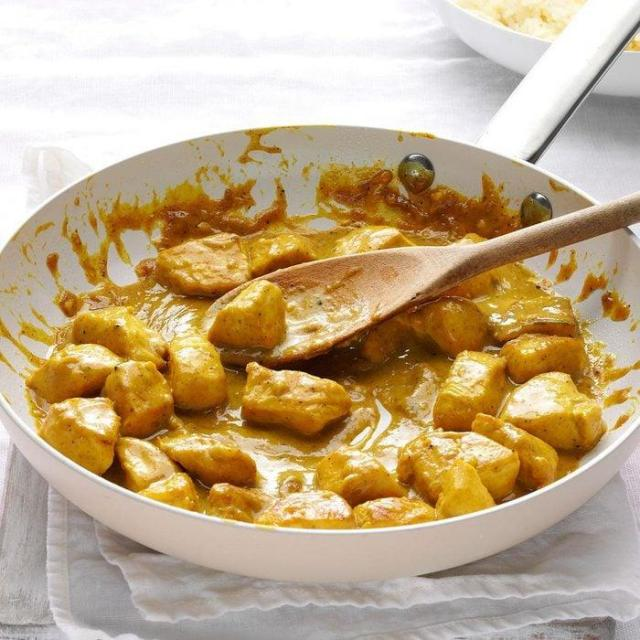chicken: (0, 127, 631, 561)
